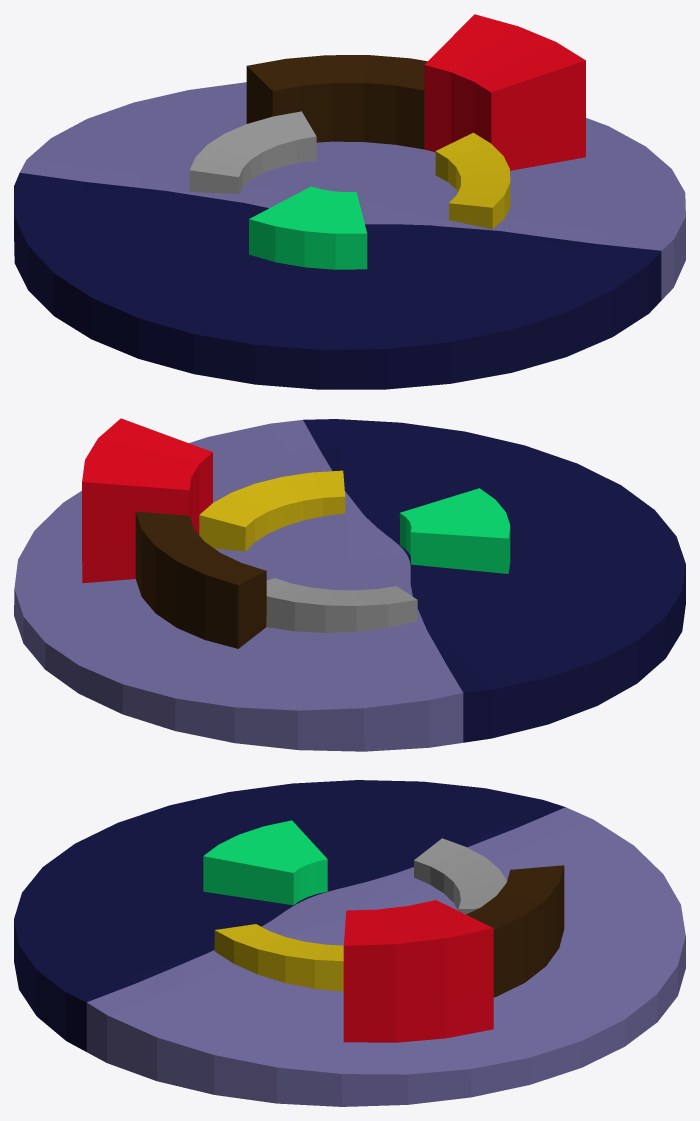
The model's file is socle_scene.fbx.
3 renders of one model, top to bottom at view 1: azimuth 30°, elevation 25°; view 2: azimuth 150°, elevation 25°; view 3: azimuth 270°, elevation 25°, orthographic.
Visible parts, largest first — view 1: Socle.001; view 2: Socle.001; view 3: Socle.001.
Boxes of the visible parts, x1,y1,x2,y2 form: Socle.001: (14,14,685,389); Socle.001: (14,418,685,751); Socle.001: (14,780,685,1106).
Bounding box in the file's own units: 1500 × 326 × 1500.
